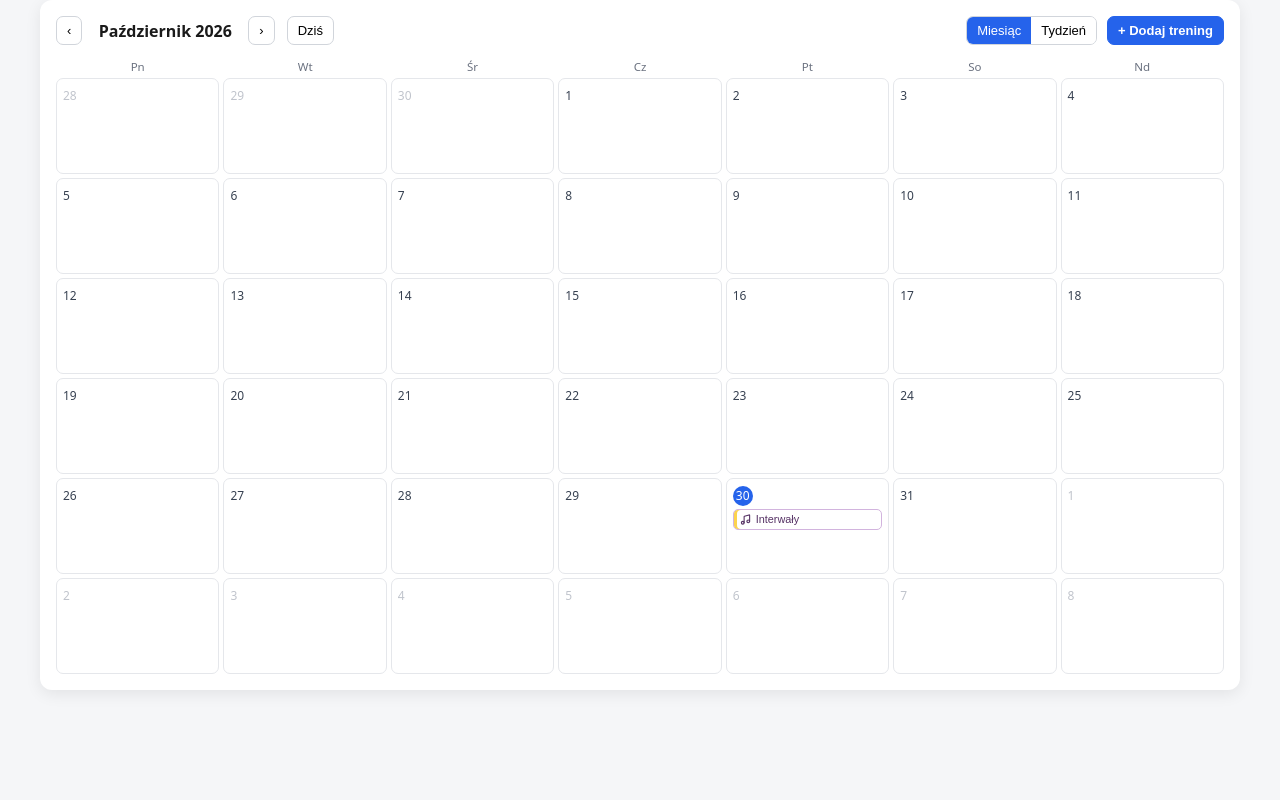
CalendarPage › w trybie podglądu › plan otwiera się bez zmiany stanu, edycji i usuwania, z informacją o autorze
Click the button titled "Interwały · od trenera: Jan Kowalski". click: {"x": 807, "y": 519}
box: 733,508 -> 882,530
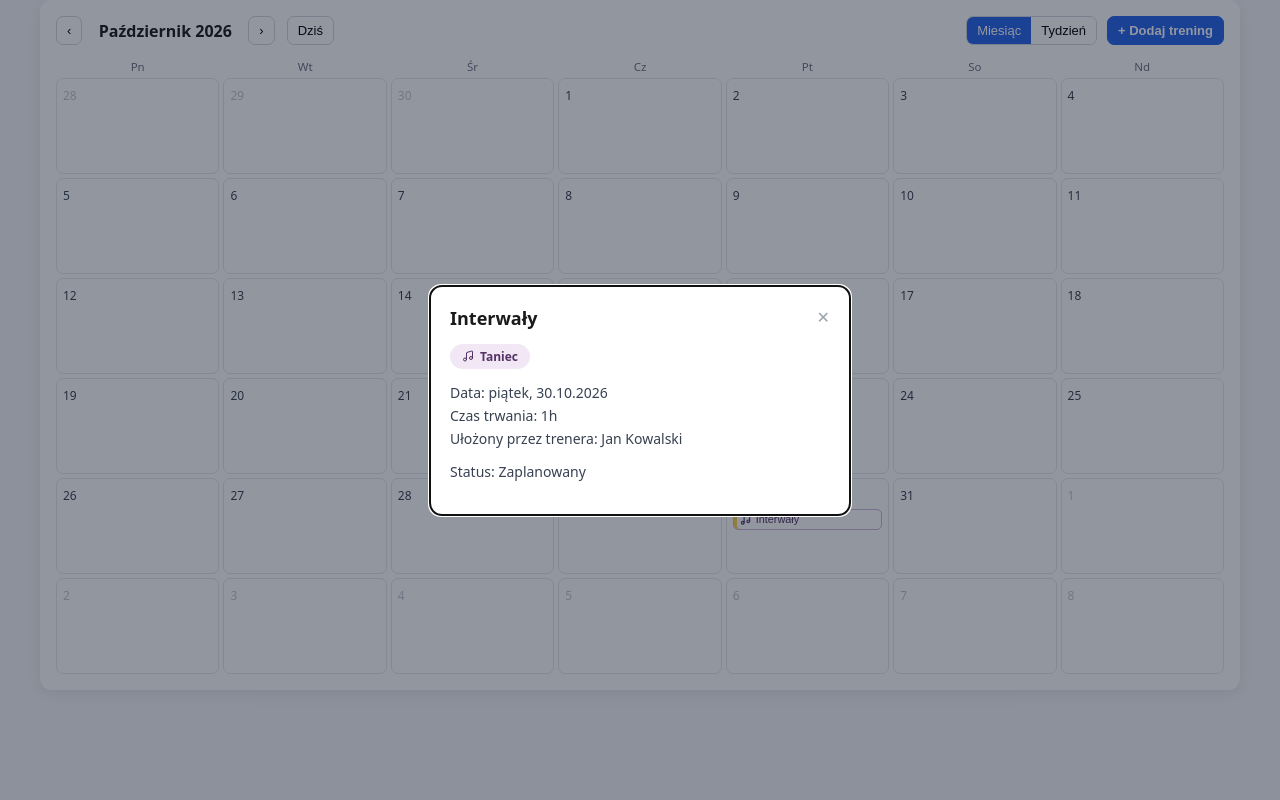
Result: the text "Ułożony przez trenera: Jan Kowalski" is shown at 450,428 -> 682,448
